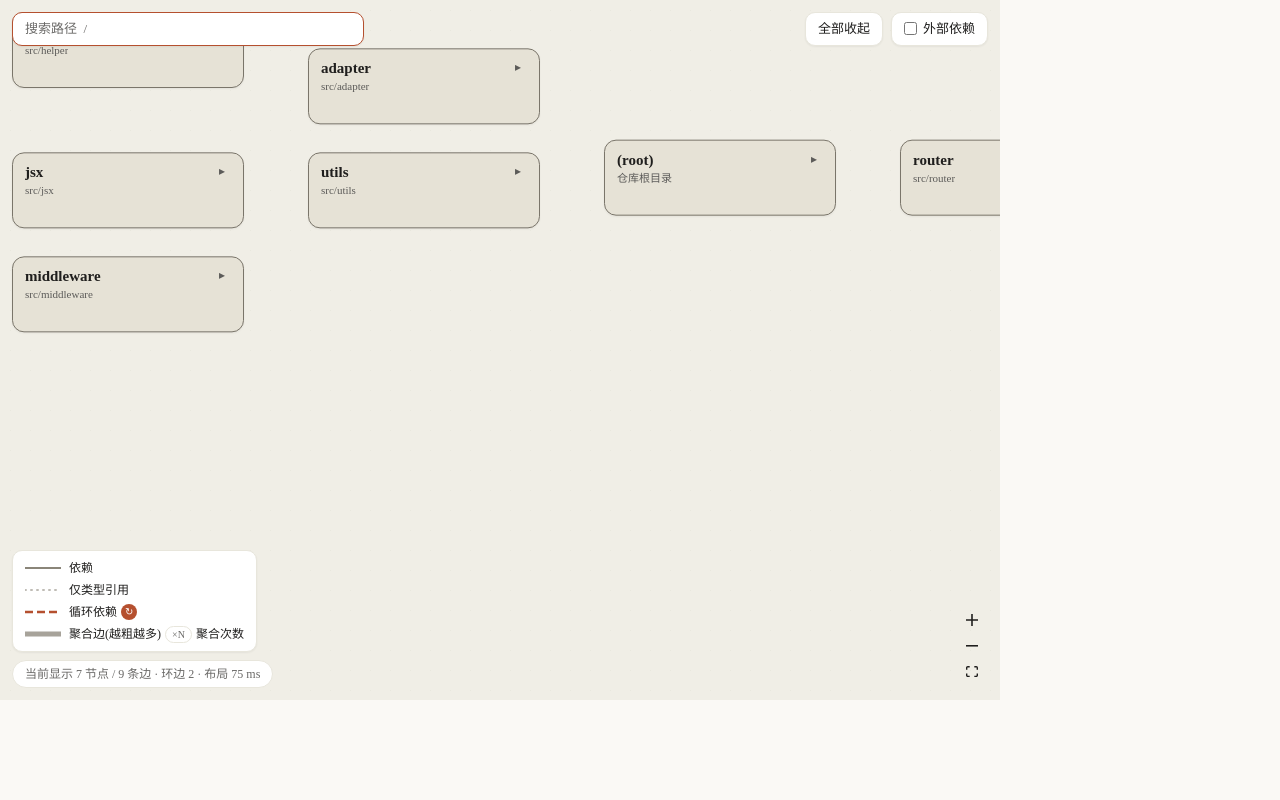
<GraphView> 路径搜索(T-224) › 只搜已加载节点:未加载的 compose.ts 显示「没有匹配的节点」,已加载的 router 能搜到
The width and height of the screenshot is (1280, 800).
Type "compose" into the dropdown named "按路径搜索节点".
click(188, 29); type("compose")  # box [12,12,364,46]
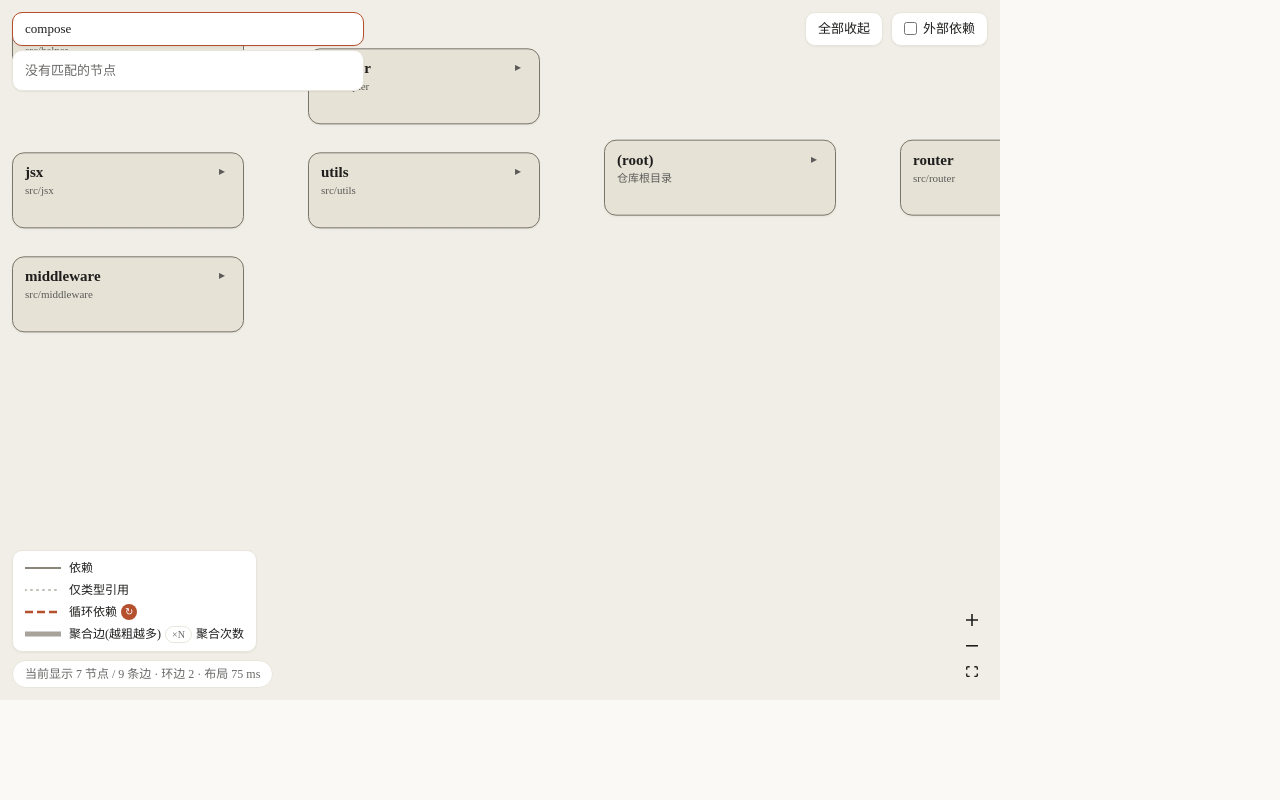
Expected: the list reads "没有匹配的节点", [25,62,116,78]
Replace the text in the dropdown named "按路径搜索节点" with "router" at (188, 29), box [12,12,364,46]
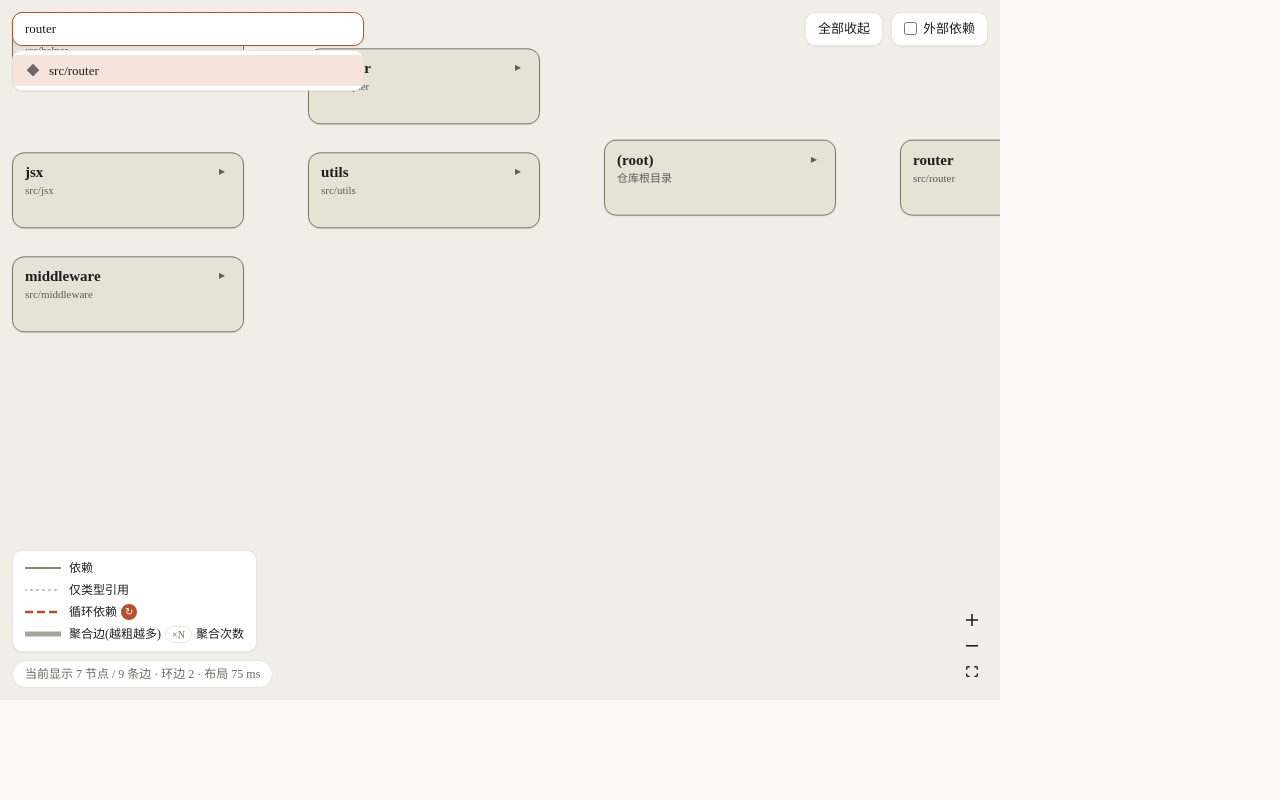
Expected: the option shows "src/router", [13,54,363,86]
